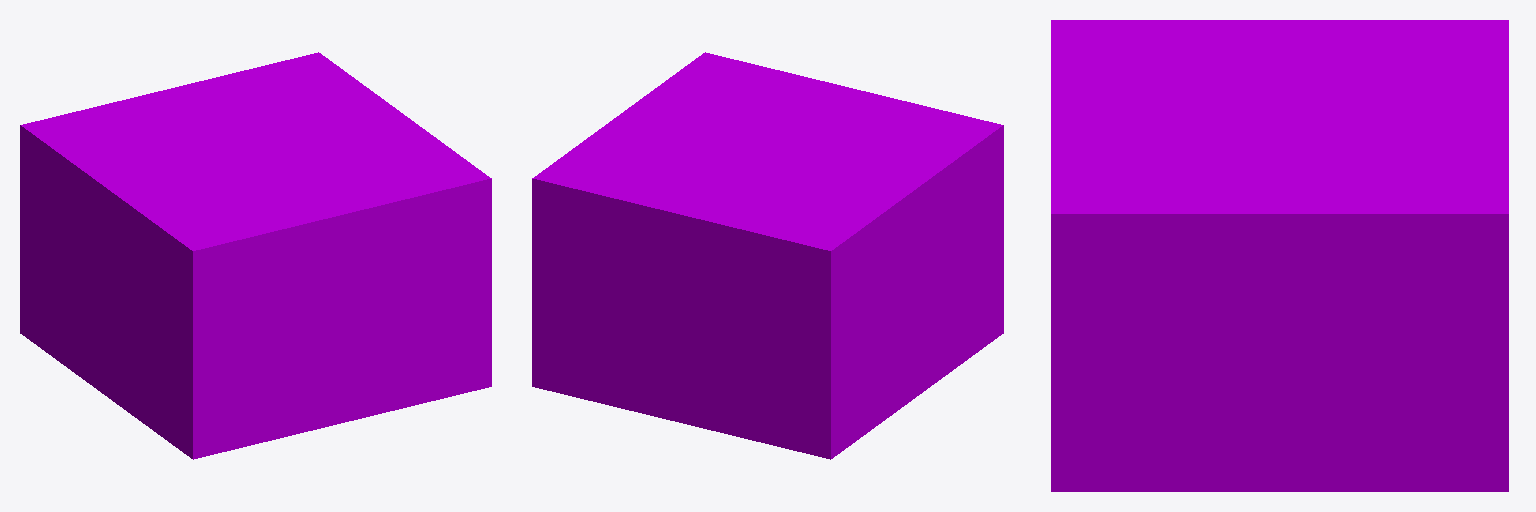
URDF robot description (table_model):
<?xml version="1.0"?>
<robot name="table_model">

  <link name="Table">

    <inertial>
      <origin xyz="0 0 0.1" rpy="0 0 0"/>
      <mass value="14.949"/>
      <inertia
        ixx="0.12772"
        ixy="3.9504E-18"
        ixz="-1.1005E-17"
        iyy="0.19016"
        iyz="-1.1223E-18"
        izz="0.1621"/>
    </inertial>

    <visual>
      <origin xyz="0 0 0.1" rpy="0 0 0"/>
      <geometry>
        <box size="0.3 0.3 0.2"/>
      </geometry>
      <material name="">
        <color rgba="0.79216 0 0.93333 1"/>
      </material>
    </visual>

    <collision>
      <origin xyz="0 0 0.1" rpy="0 0 0"/>
      <geometry>
        <box size="0.3 0.3 0.2"/>
      </geometry>
    </collision>

  </link>

  <gazebo>
    <static>true</static>
  </gazebo>

</robot>

--- What the picture shows (computed from the rendered views, not written in the file) ---
3 views of the same robot in one strip: view 1: azimuth 30°, elevation 25°; view 2: azimuth 150°, elevation 25°; view 3: azimuth 270°, elevation 25° (orthographic).
Model table_model with 1 links and 0 joints (none), rooted at Table, posed every joint at zero.
Links seen in each view (by area): view 1: Table; view 2: Table; view 3: Table.
Link boxes in pixels (bbox=[...]): Table: bbox=[20, 52, 491, 459]; Table: bbox=[532, 52, 1003, 459]; Table: bbox=[1051, 20, 1508, 491].
Bounding box of the posed robot: 0.3 × 0.3 × 0.2 m (x, y, z).
Geometry: primitives only (box / cylinder / sphere), no mesh files.
